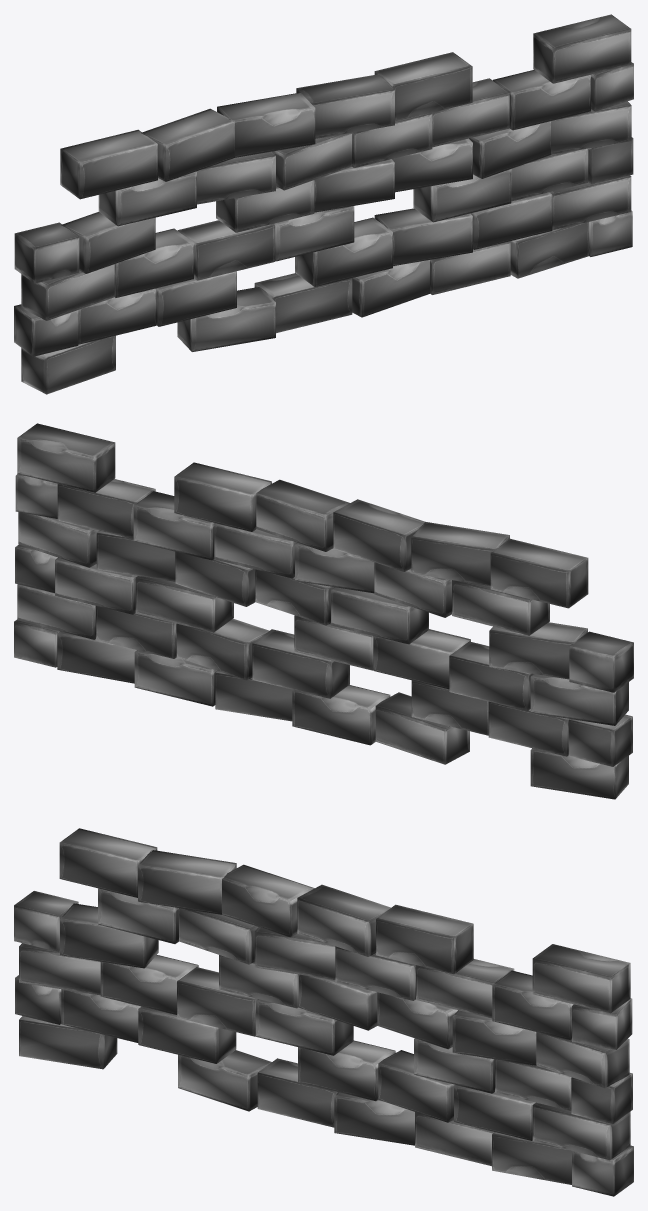
File: brick_wall_3.fbx
3 renders of one model, top to bottom at view 1: azimuth 30°, elevation 25°; view 2: azimuth 150°, elevation 25°; view 3: azimuth 330°, elevation 25°, orthographic.
Visible parts, largest first — view 1: brick_wall_3; view 2: brick_wall_3; view 3: brick_wall_3.
Part boxes in pixels (x1,y1,x2,y2): brick_wall_3: (14, 14, 633, 394); brick_wall_3: (14, 423, 633, 799); brick_wall_3: (14, 828, 633, 1196).
Bounding box in the file's own units: 6.04 × 2.11 × 0.5022.
